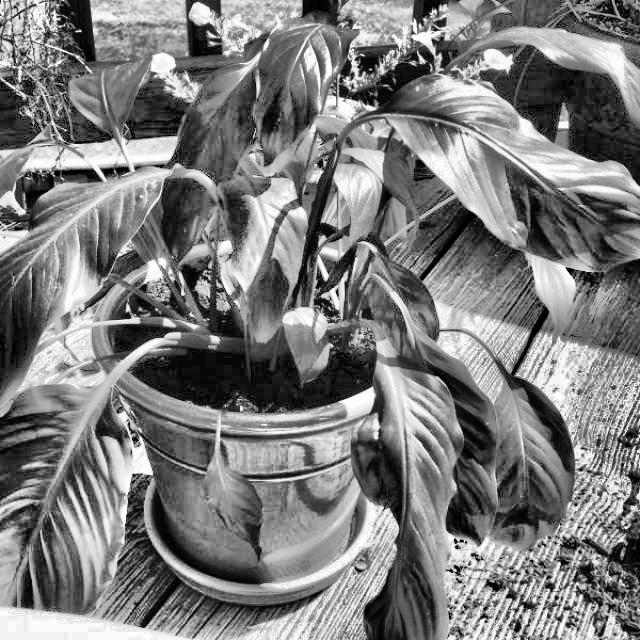plants: (0, 38, 639, 639), (196, 391, 290, 578), (240, 264, 306, 369)
